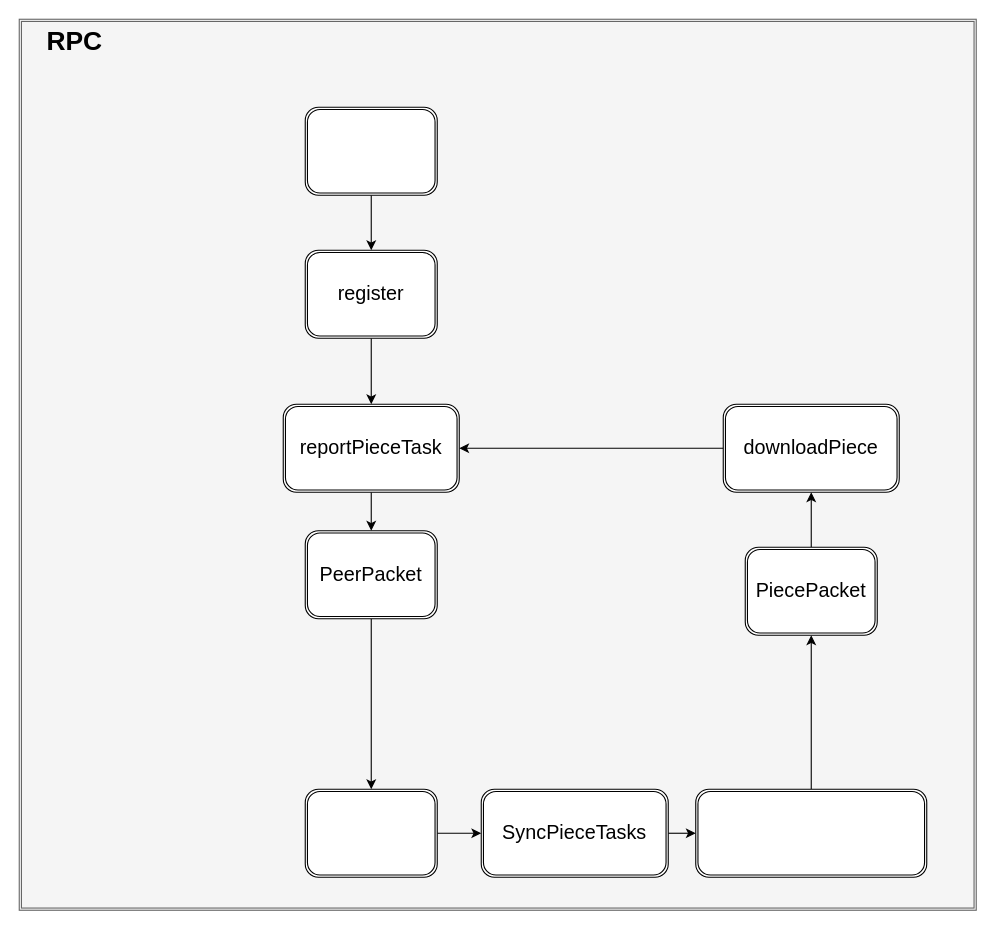
Image size: 996x930. Some labels were removed from this diagram. The shapes that lost their labels are listed below. From the top down, each one's centre as x and y in pixels, then its label:
At (370,150): "Download".
At (370,832): "Peer".
At (811,832): "返回尽可能多的分片，应发尽发".
